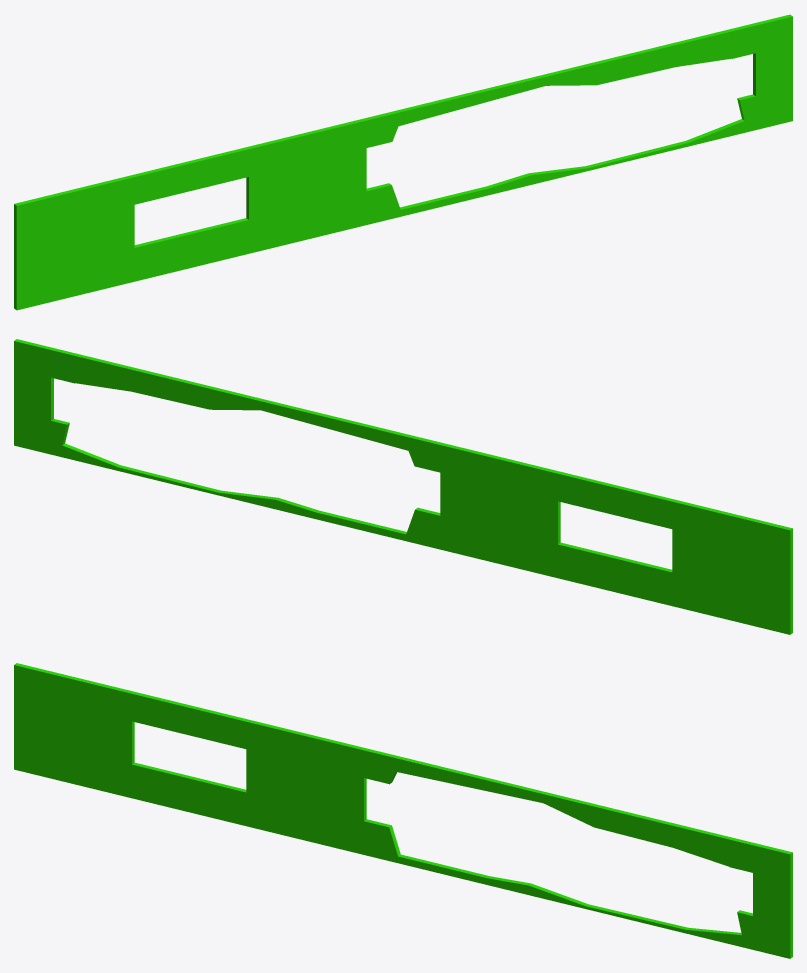
The model's file is BH05B_Wall_06_Break_Collider.fbx.
3 renders of one model, top to bottom at view 1: azimuth 30°, elevation 25°; view 2: azimuth 150°, elevation 25°; view 3: azimuth 330°, elevation 25°, orthographic.
Parts seen in each view (by area): view 1: BH05B_Wall_06_Break_Collider; view 2: BH05B_Wall_06_Break_Collider; view 3: BH05B_Wall_06_Break_Collider.
Part boxes in pixels (x1,y1,x2,y2): BH05B_Wall_06_Break_Collider: (14, 14, 792, 310); BH05B_Wall_06_Break_Collider: (14, 339, 792, 634); BH05B_Wall_06_Break_Collider: (14, 663, 792, 958).
Bounding box in the file's own units: 2295 × 295 × 14.39.
